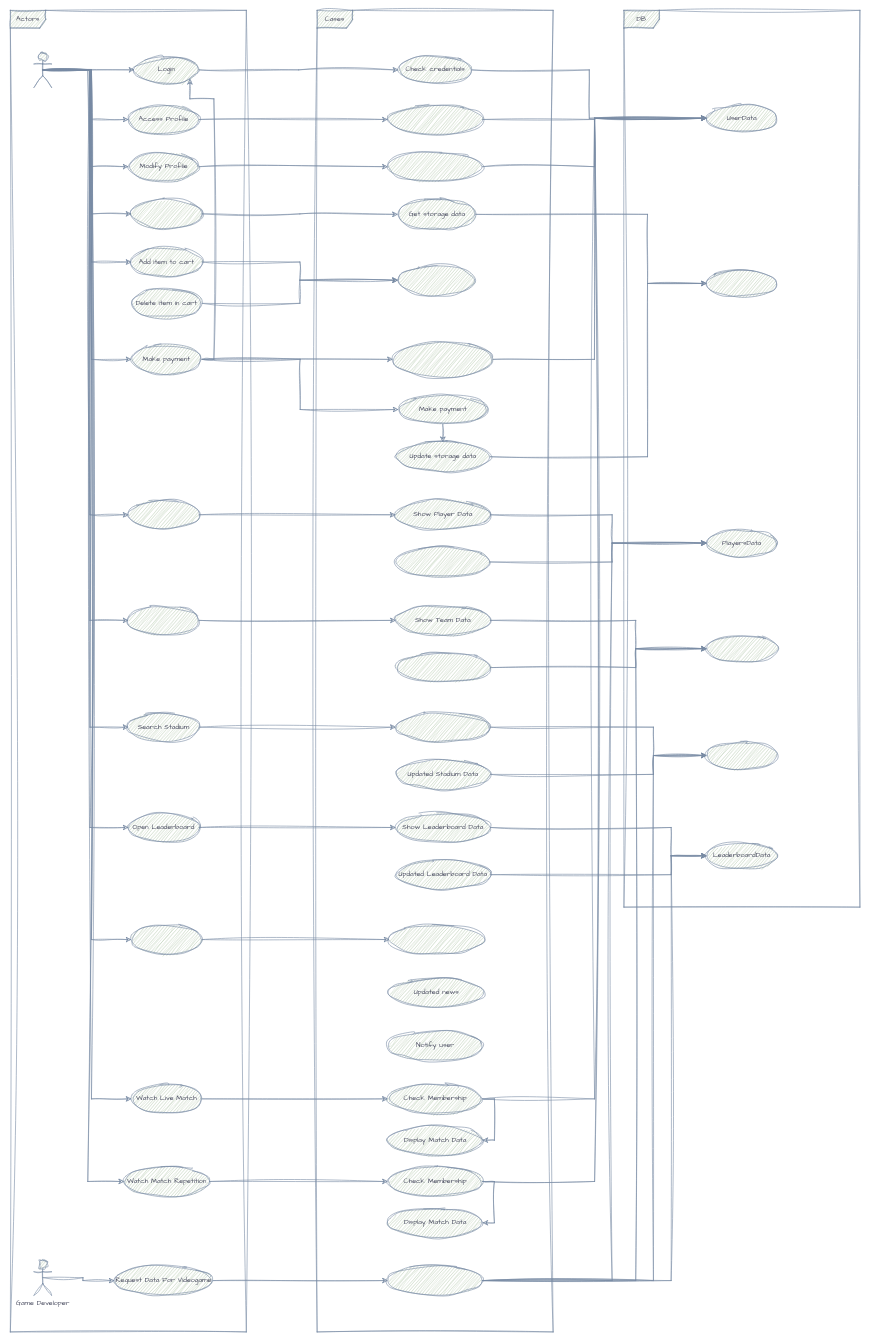
The diagram is 870 pixels wide and 1342 high, and some of its shapes have lost their labels. Here are the shapes that lost their labels. From the top down, the centre of each, then its label:
the point at 42,70: User
the point at 435,119: Get Profile Data
the point at 435,166: Update Profile Data
the point at 166,214: Open store
the point at 436,279: Cart management
the point at 741,283: StoreData
the point at 442,359: Check for last payment information
the point at 163,514: Search Player
the point at 442,562: Updated Player Data
the point at 163,620: Search Team
the point at 443,667: Updated Team Data
the point at 741,648: TeamsData
the point at 443,727: Show Stadium Data
the point at 741,755: StadiumData
the point at 166,939: Open News
the point at 436,939: Show recent news
the point at 435,1280: Export League Data
